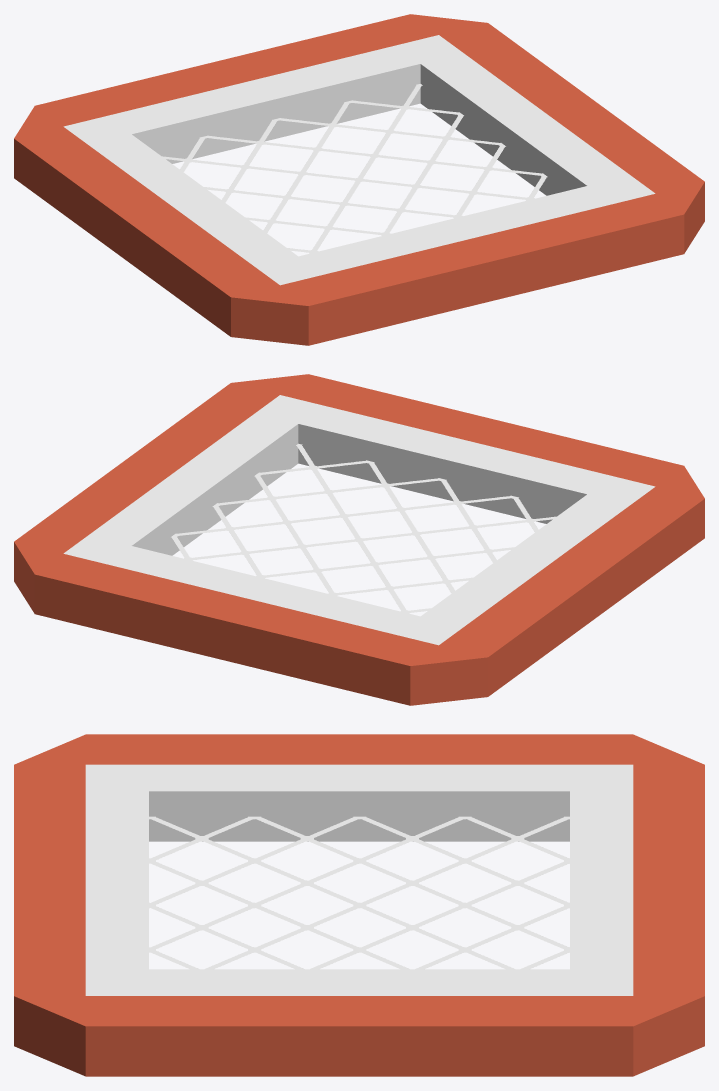
File: metalTileSmall.fbx
3 renders of one model, top to bottom at view 1: azimuth 30°, elevation 25°; view 2: azimuth 150°, elevation 25°; view 3: azimuth 270°, elevation 25°, orthographic. The views are drawn at different scales.
Parts seen in each view (by area): view 1: metalTileSmall; view 2: metalTileSmall; view 3: metalTileSmall.
Part boxes in pixels (left/top/right/bottom): metalTileSmall: left=14, top=14, right=704, bottom=345; metalTileSmall: left=14, top=374, right=704, bottom=705; metalTileSmall: left=14, top=734, right=704, bottom=1076.
Bounding box in the file's own units: 5 × 0.4 × 5.
3 materials, 1 textured.
